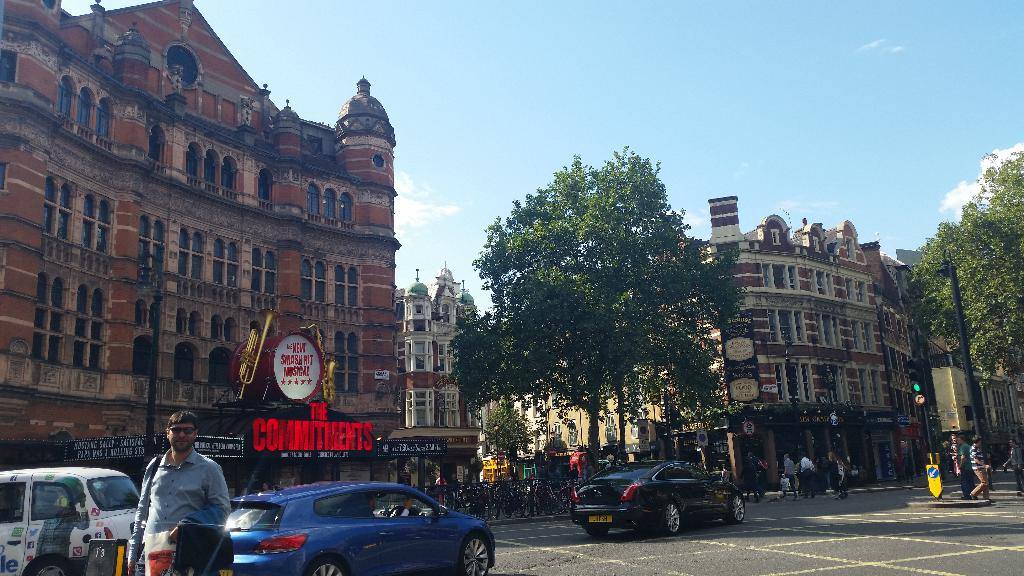cars: (219, 479, 499, 570), (0, 463, 134, 575), (567, 460, 746, 530)
